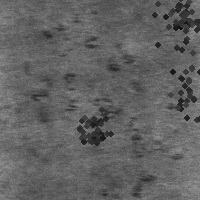rolled-in_scale: (35, 76, 156, 197), (141, 45, 200, 135), (40, 18, 132, 72), (146, 0, 200, 53), (67, 107, 115, 155)
